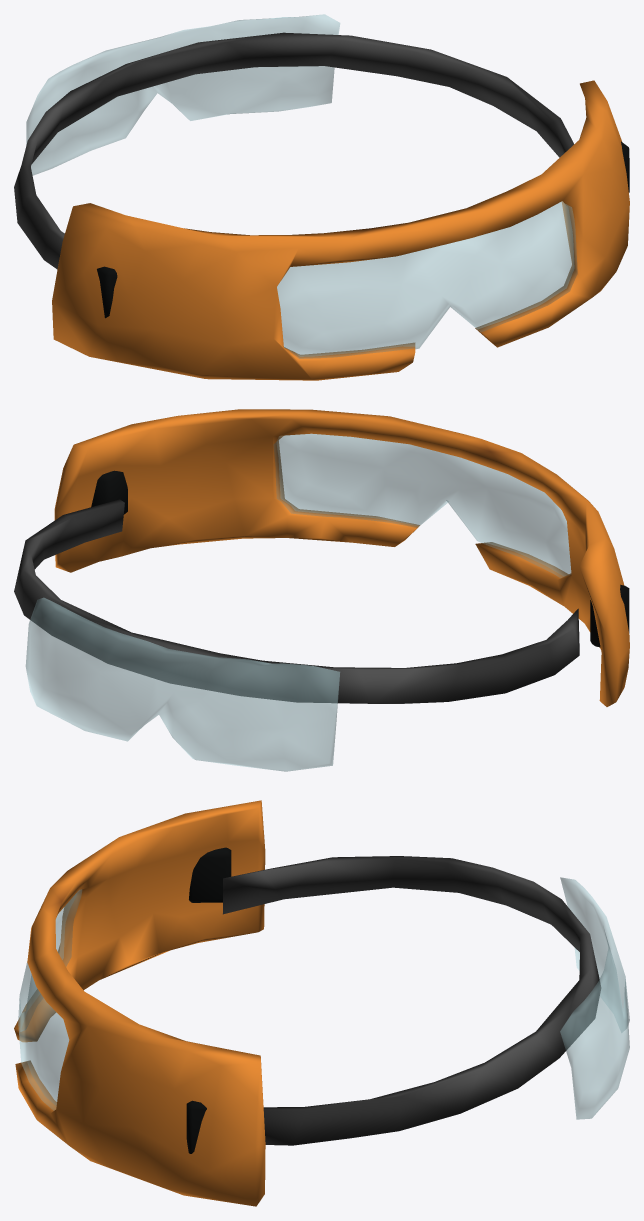
Rendered from kinhbaoho.glb.
The picture shows the model from 3 angles, top to bottom: view 1: azimuth 30°, elevation 25°; view 2: azimuth 150°, elevation 25°; view 3: azimuth 270°, elevation 25°; orthographic projection. The views are drawn at different scales.
Visible parts, largest first — view 1: Khung_BH, Kinh_BH, Day_Thun, Khoa_Day; view 2: Kinh_BH, Khung_BH, Day_Thun, Khoa_Day; view 3: Khung_BH, Day_Thun, Kinh_BH, Khoa_Day.
Boxes of the visible parts, x1,y1,x2,y2 form: Khung_BH: (52, 80, 629, 380); Kinh_BH: (26, 14, 577, 358); Day_Thun: (14, 32, 573, 269); Khoa_Day: (97, 141, 629, 318); Kinh_BH: (25, 433, 571, 771); Khung_BH: (54, 409, 629, 706); Day_Thun: (14, 499, 579, 703); Khoa_Day: (91, 470, 629, 647); Khung_BH: (14, 800, 265, 1206); Day_Thun: (223, 856, 600, 1145); Kinh_BH: (18, 877, 629, 1119); Khoa_Day: (186, 847, 231, 1153).
Bounding box in the file's own units: 0.2984 × 0.0678 × 0.2727.
